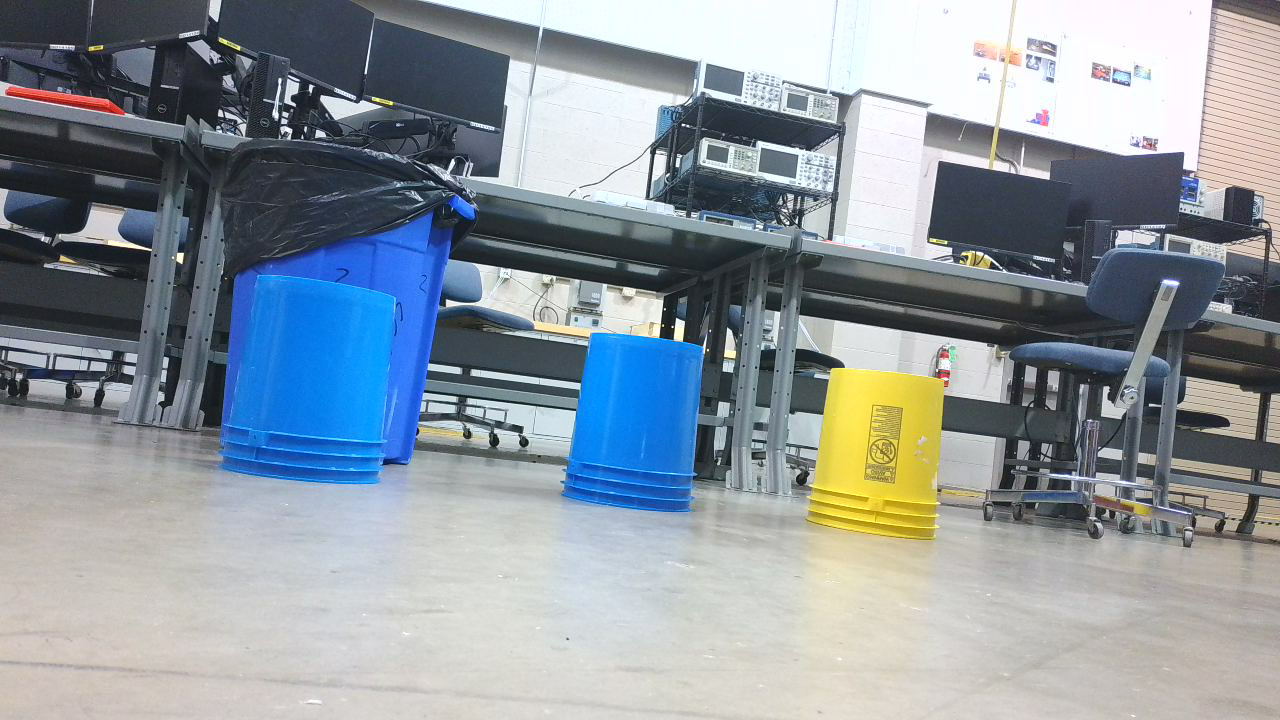blue_bucket: (221, 272, 405, 496), (563, 331, 717, 522)
yellow_bucket: (803, 362, 955, 551)
